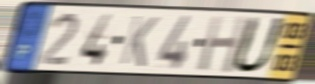2: (38, 11, 80, 68)
4: (156, 14, 192, 72), (77, 12, 112, 68)
H: (195, 14, 249, 76)
K: (118, 14, 161, 70)
U: (230, 14, 290, 75)
